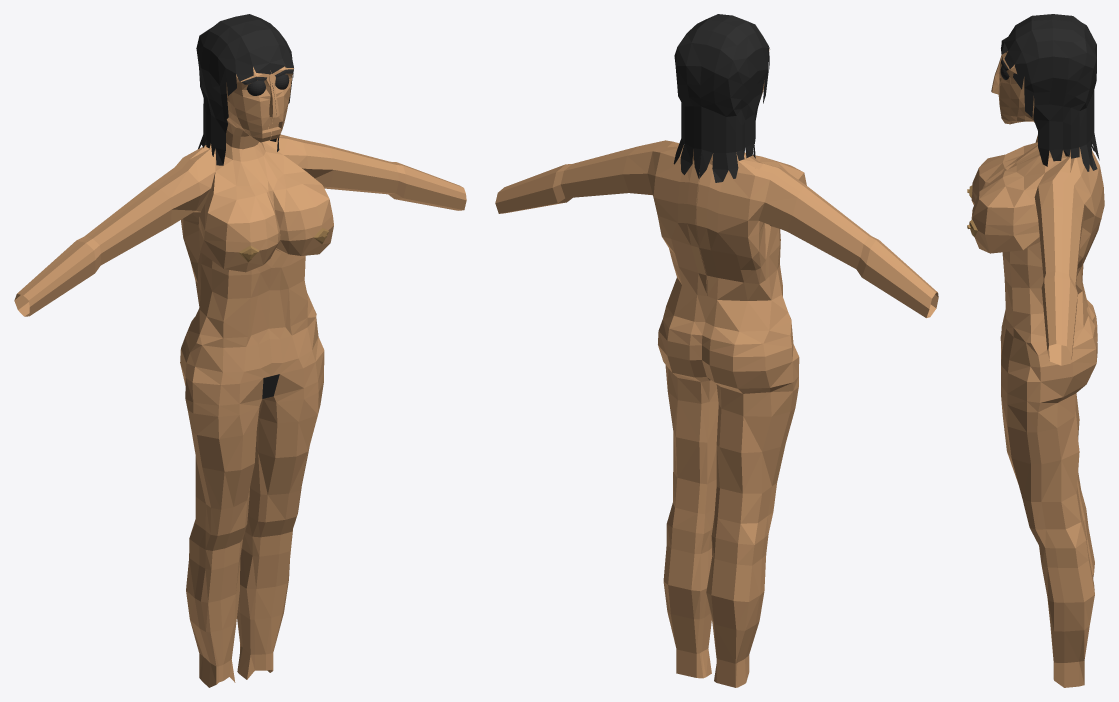
Rendered from MUJER.dae.
The picture shows the model from 3 angles, left to right: view 1: azimuth 30°, elevation 25°; view 2: azimuth 150°, elevation 25°; view 3: azimuth 270°, elevation 25°; orthographic projection. The views are drawn at different scales.
Visible parts, largest first — view 1: Cube_002; view 2: Cube_002; view 3: Cube_002.
Boxes of the visible parts, x1,y1,x2,y2 form: Cube_002: (14,14,466,687); Cube_002: (495,14,938,687); Cube_002: (967,14,1104,687).
Bounding box in the file's own units: 18.54 × 5.06 × 26.51.
